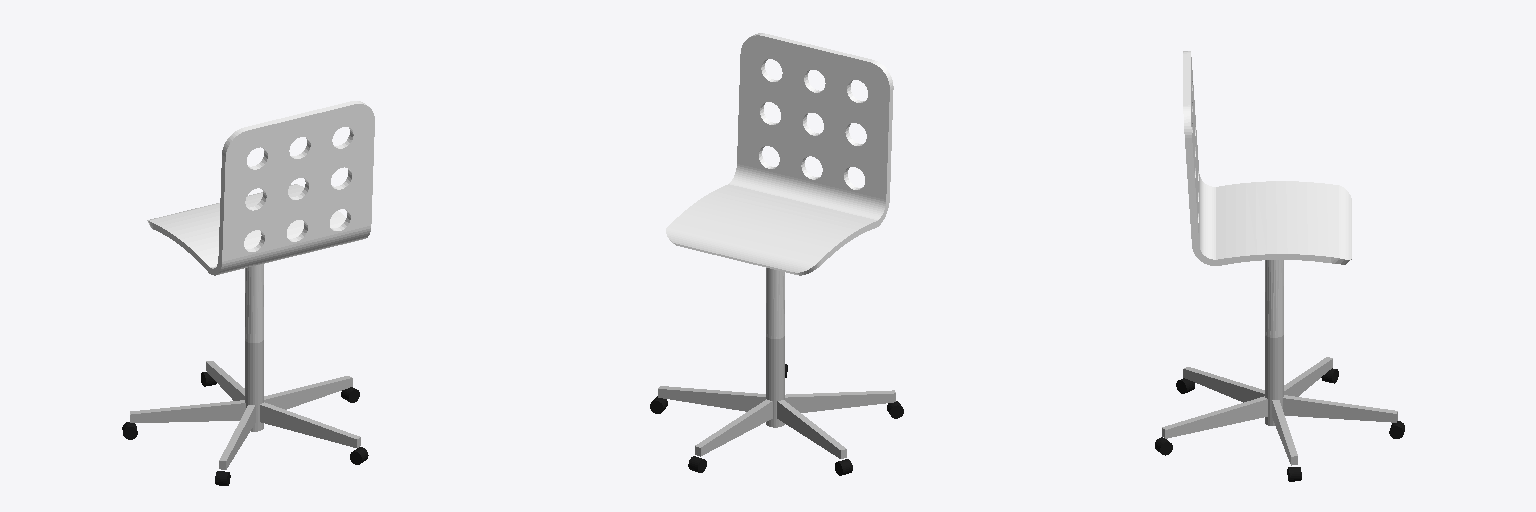
3 views of the same model, side by side, from view 1: azimuth 30°, elevation 25°; view 2: azimuth 150°, elevation 25°; view 3: azimuth 270°, elevation 25° (orthographic).
Parts seen in each view (by area): view 1: Mesh1 Group2 Group1 Model, Mesh12 Group3 ske3F1 Group1 Model, Mesh7 Group6 Group3 ske3F1 Group1 Model, Mesh5 Group5 Group3 ske3F1 Group1 Model, Mesh11 Group8 Group3 ske3F1 Group1 Model, Mesh9 Group7 Group3 ske3F1 Group1 Model, Mesh3 Group4 Group3 ske3F1 Group1 Model; view 2: Mesh1 Group2 Group1 Model, Mesh12 Group3 ske3F1 Group1 Model, Mesh9 Group7 Group3 ske3F1 Group1 Model, Mesh11 Group8 Group3 ske3F1 Group1 Model, Mesh3 Group4 Group3 ske3F1 Group1 Model, Mesh7 Group6 Group3 ske3F1 Group1 Model; view 3: Mesh1 Group2 Group1 Model, Mesh12 Group3 ske3F1 Group1 Model, Mesh3 Group4 Group3 ske3F1 Group1 Model, Mesh5 Group5 Group3 ske3F1 Group1 Model, Mesh9 Group7 Group3 ske3F1 Group1 Model, Mesh7 Group6 Group3 ske3F1 Group1 Model, Mesh11 Group8 Group3 ske3F1 Group1 Model.
Boxes of the visible parts, box(x1,y1,x2,y2) form: Mesh1 Group2 Group1 Model: box(147, 101, 374, 275); Mesh12 Group3 ske3F1 Group1 Model: box(245, 264, 263, 431); Mesh7 Group6 Group3 ske3F1 Group1 Model: box(130, 400, 245, 422); Mesh5 Group5 Group3 ske3F1 Group1 Model: box(260, 402, 360, 447); Mesh11 Group8 Group3 ske3F1 Group1 Model: box(264, 376, 352, 409); Mesh9 Group7 Group3 ske3F1 Group1 Model: box(219, 405, 255, 469); Mesh3 Group4 Group3 ske3F1 Group1 Model: box(206, 361, 244, 400); Mesh1 Group2 Group1 Model: box(666, 33, 893, 275); Mesh12 Group3 ske3F1 Group1 Model: box(766, 268, 784, 427); Mesh9 Group7 Group3 ske3F1 Group1 Model: box(785, 390, 895, 412); Mesh11 Group8 Group3 ske3F1 Group1 Model: box(658, 386, 765, 411); Mesh3 Group4 Group3 ske3F1 Group1 Model: box(695, 399, 772, 456); Mesh7 Group6 Group3 ske3F1 Group1 Model: box(777, 400, 846, 458); Mesh1 Group2 Group1 Model: box(1183, 51, 1351, 265); Mesh12 Group3 ske3F1 Group1 Model: box(1265, 260, 1283, 425); Mesh3 Group4 Group3 ske3F1 Group1 Model: box(1283, 395, 1397, 422); Mesh5 Group5 Group3 ske3F1 Group1 Model: box(1162, 396, 1267, 438); Mesh9 Group7 Group3 ske3F1 Group1 Model: box(1183, 367, 1264, 402); Mesh7 Group6 Group3 ske3F1 Group1 Model: box(1284, 357, 1332, 396); Mesh11 Group8 Group3 ske3F1 Group1 Model: box(1272, 400, 1297, 465).
Bounding box in the file's own units: 0.545 × 0.8373 × 0.5439.